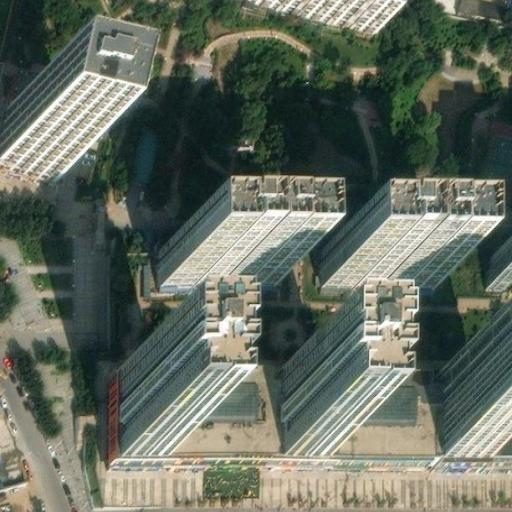building: (169, 371, 289, 458), (334, 373, 443, 460), (0, 110, 77, 179), (119, 371, 179, 457), (281, 373, 335, 464), (162, 240, 277, 279), (442, 374, 490, 460), (324, 244, 435, 277), (279, 0, 379, 22), (489, 375, 512, 460)
